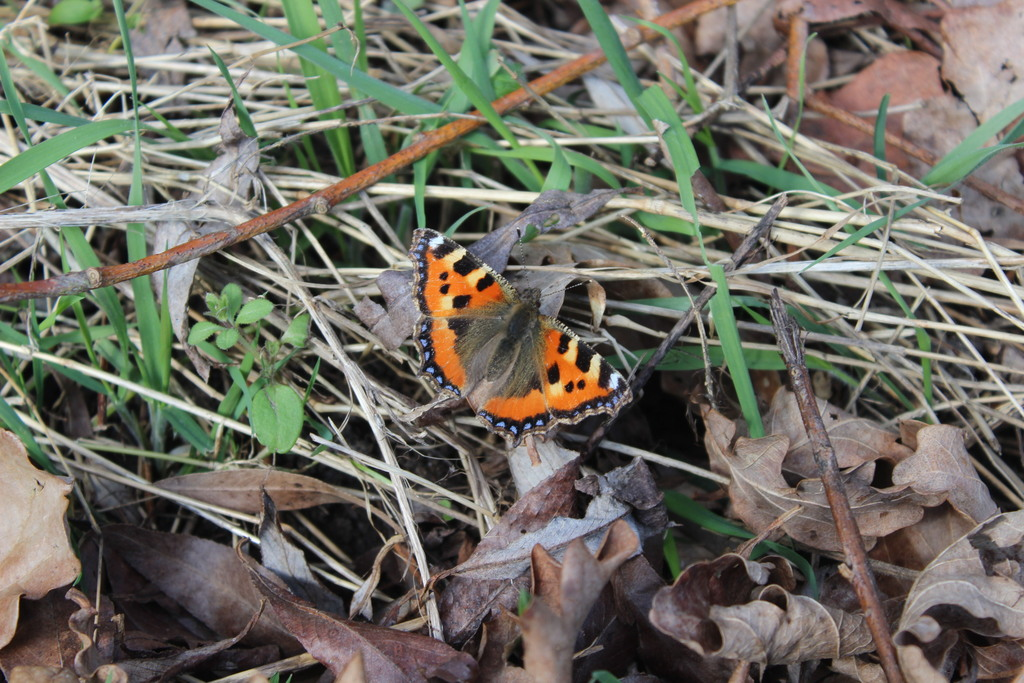Butterfly: (390, 219, 663, 469)
